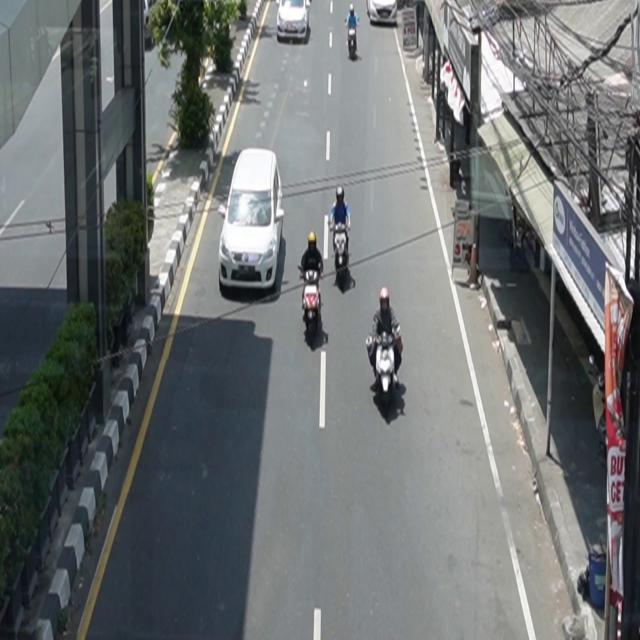car: (219, 147, 286, 292), (276, 1, 312, 42), (366, 1, 398, 26)
